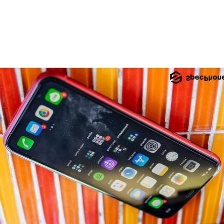phone: (2, 69, 224, 223)
